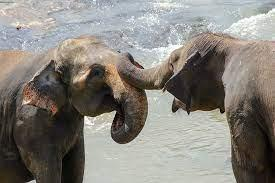elephant: (0, 32, 274, 182)
